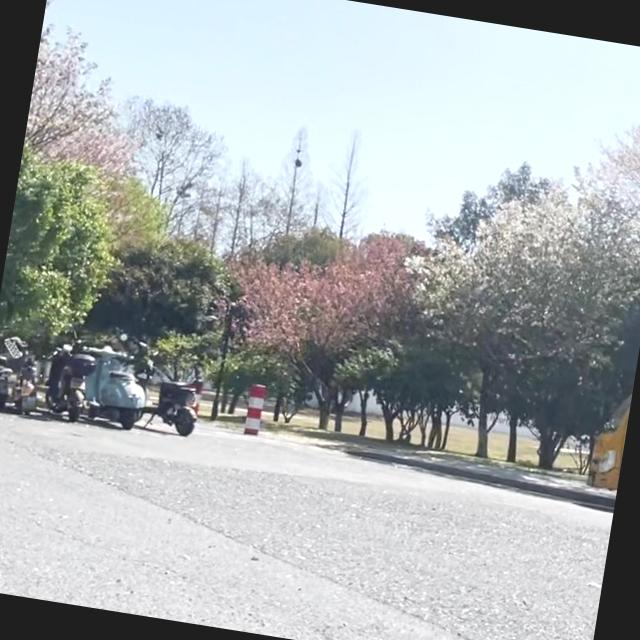curb: (350, 449, 615, 512)
